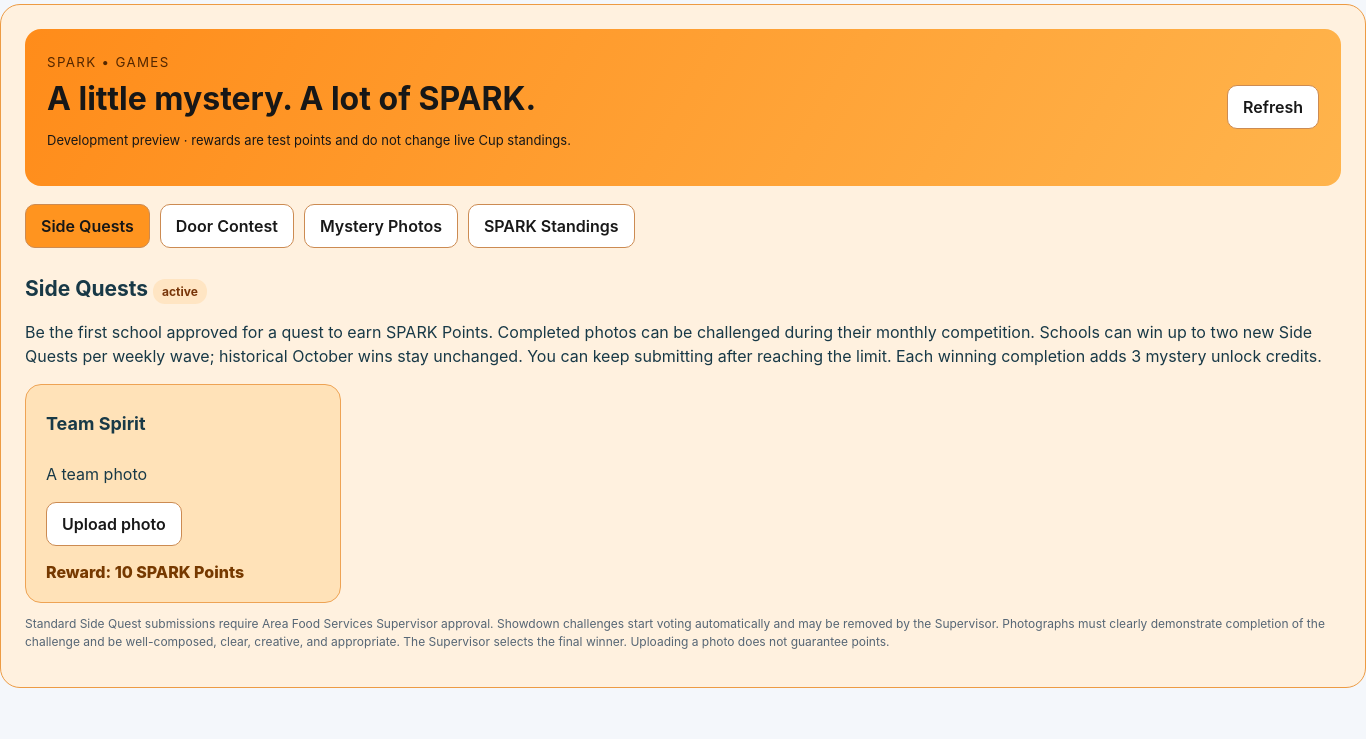
Scenario: school daily limit disables guessing
This screenshot has width=1366, height=739.
Click the button "Mystery Photos": (381, 226) [304, 204, 458, 248]
(page scrolled)
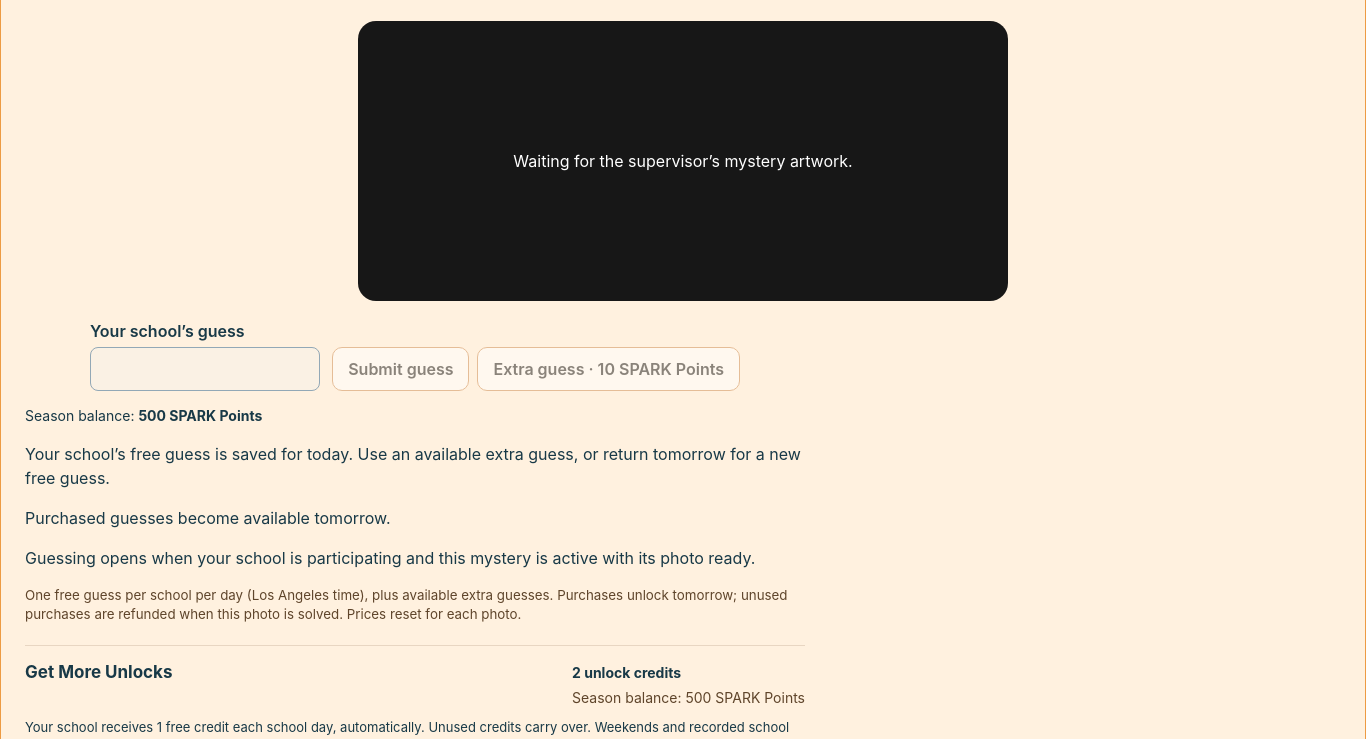
Expected: the text "Your school’s free guess is saved for today" is shown, [25, 444, 801, 488]
Expected: the button "Submit guess" is disabled, [332, 346, 470, 390]
